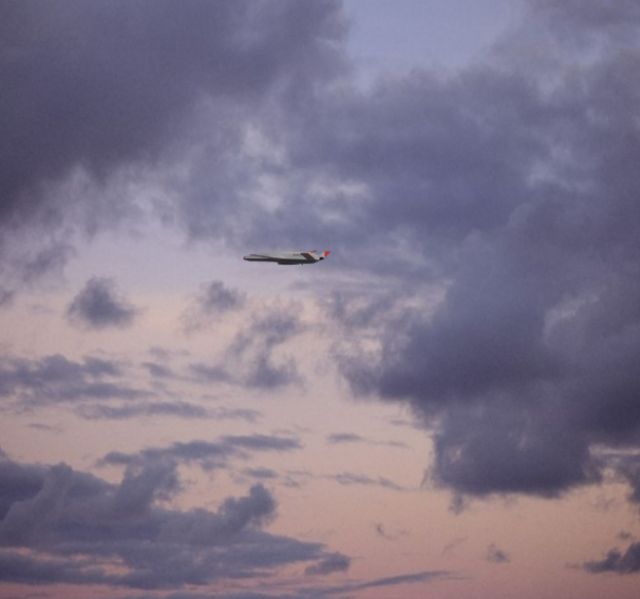military drone: (242, 249, 330, 266)
